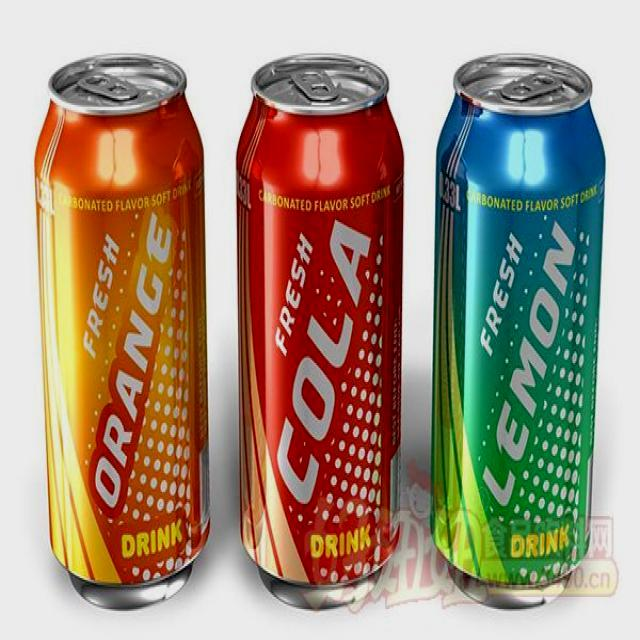can: (35, 54, 210, 608), (431, 56, 605, 606), (236, 55, 404, 608)
